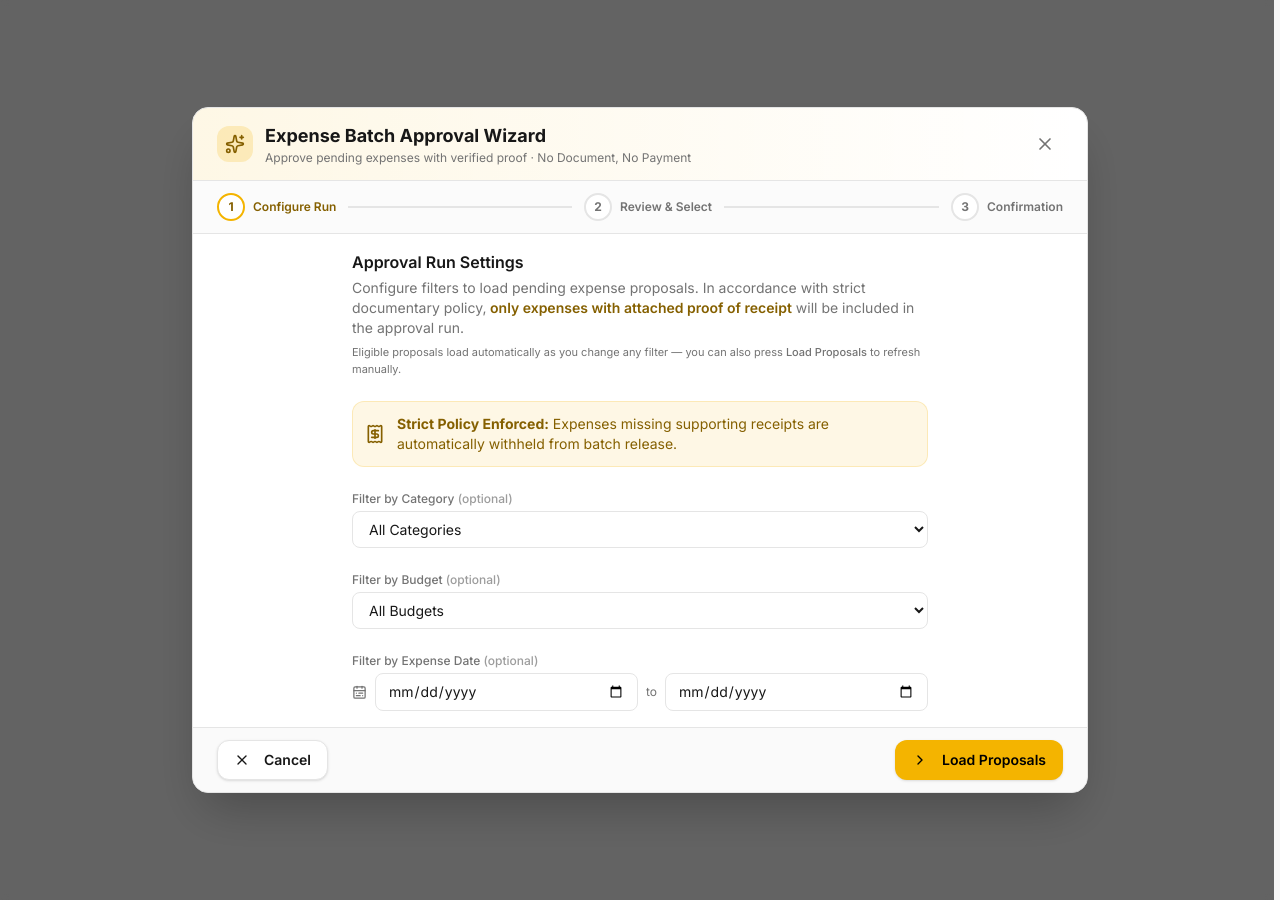
Test case: BatchApproveExpensesModal proposal loading › does not loop when the filter settles before the load completes
Click the button "Load Proposals" at (979, 760), box [895,740,1063,780]
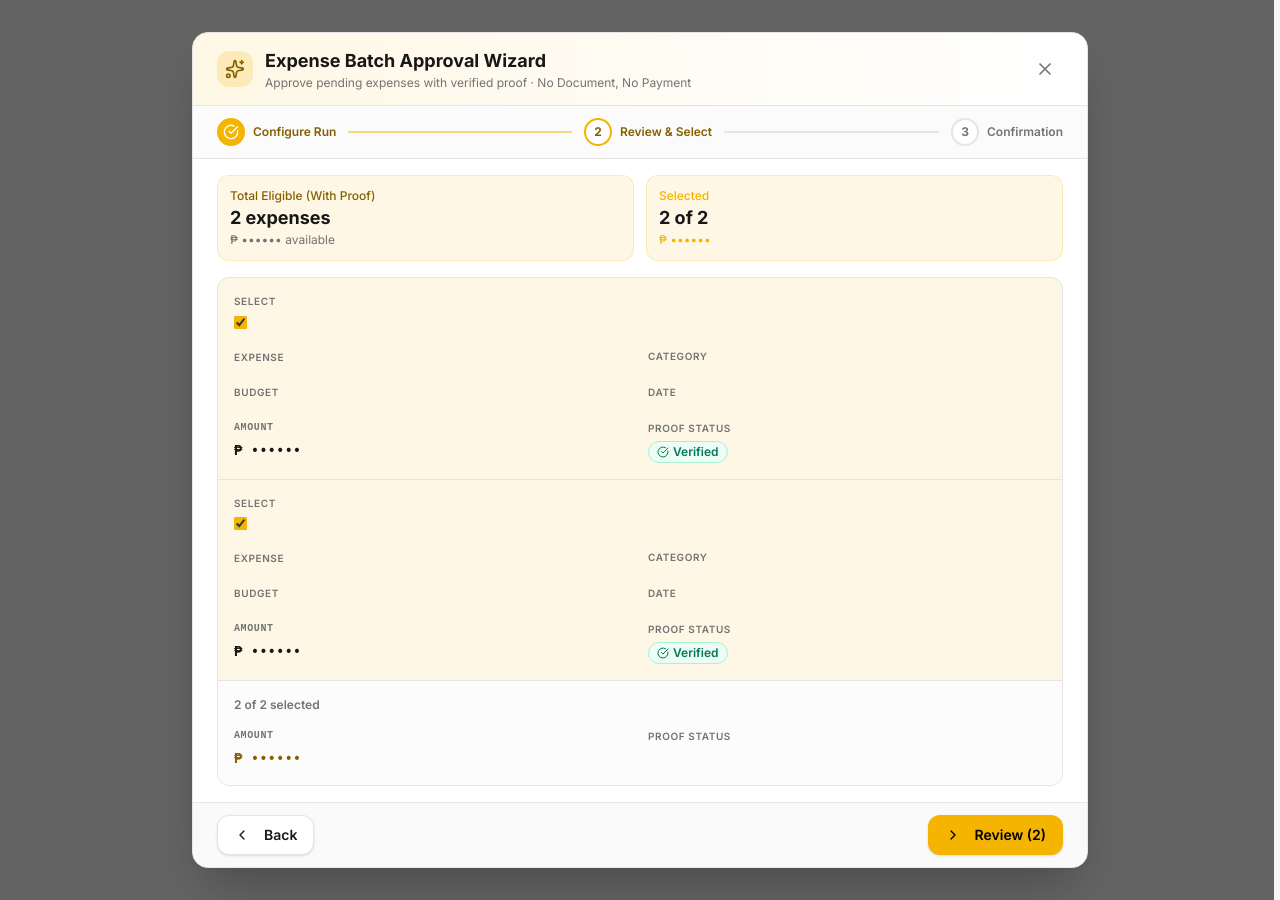
Result: the text "2 expenses" is shown at [230,207,331,228]
